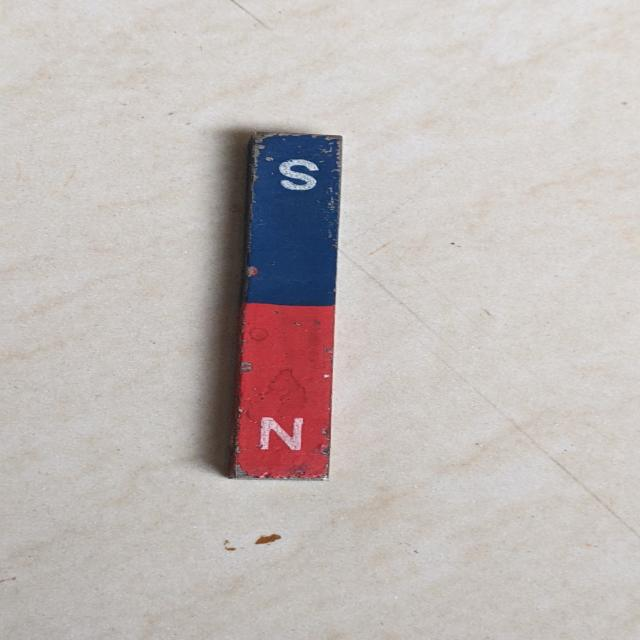Magnet: (219, 121, 364, 488)
